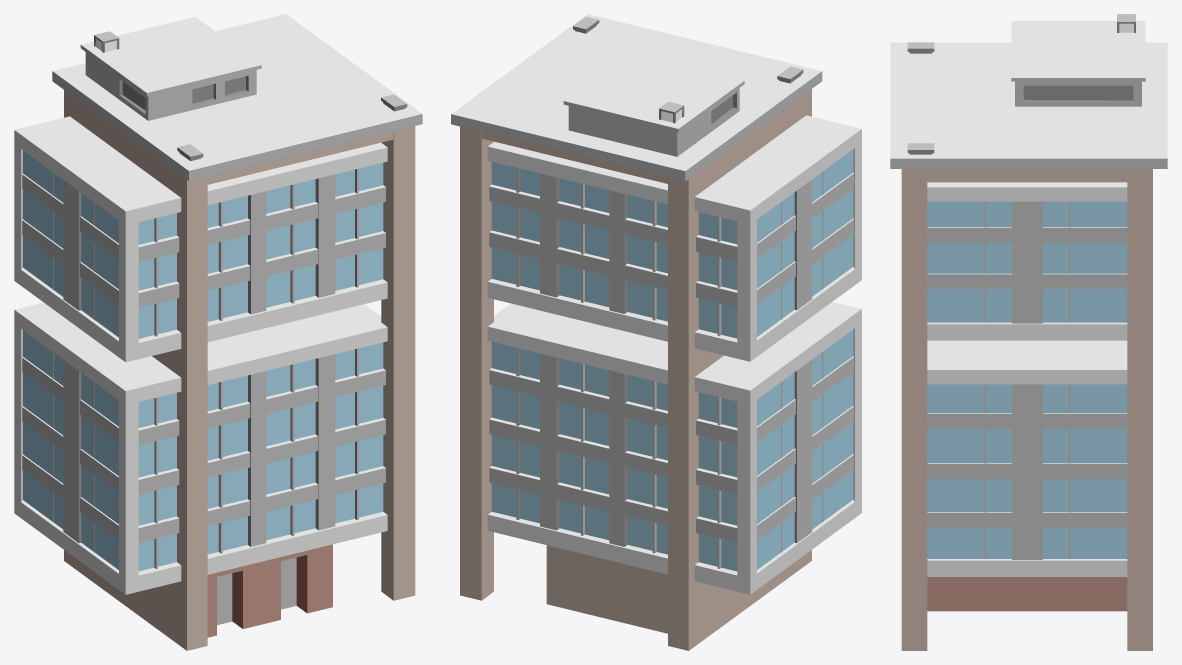
The model's file is house_high_006.fbx.
3 views of the same model, side by side, from view 1: azimuth 30°, elevation 25°; view 2: azimuth 150°, elevation 25°; view 3: azimuth 270°, elevation 25° (orthographic).
Visible parts, largest first — view 1: house_high_006; view 2: house_high_006; view 3: house_high_006.
Boxes of the visible parts, x1,y1,x2,y2 form: house_high_006: (14,14,422,650); house_high_006: (451,14,861,650); house_high_006: (890,14,1167,650).
Size of the model in its own units: 1425 by 2513 by 1181.
